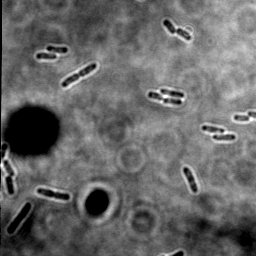Dividing: (60, 61, 99, 88), (35, 186, 72, 203), (146, 90, 183, 106)
Rod: (5, 200, 33, 236), (183, 165, 200, 194), (160, 86, 186, 99), (200, 123, 226, 135), (3, 158, 16, 177), (45, 44, 69, 54), (162, 18, 176, 35), (5, 175, 16, 196), (175, 28, 192, 41), (36, 51, 58, 61), (211, 133, 238, 141), (233, 113, 251, 123)
